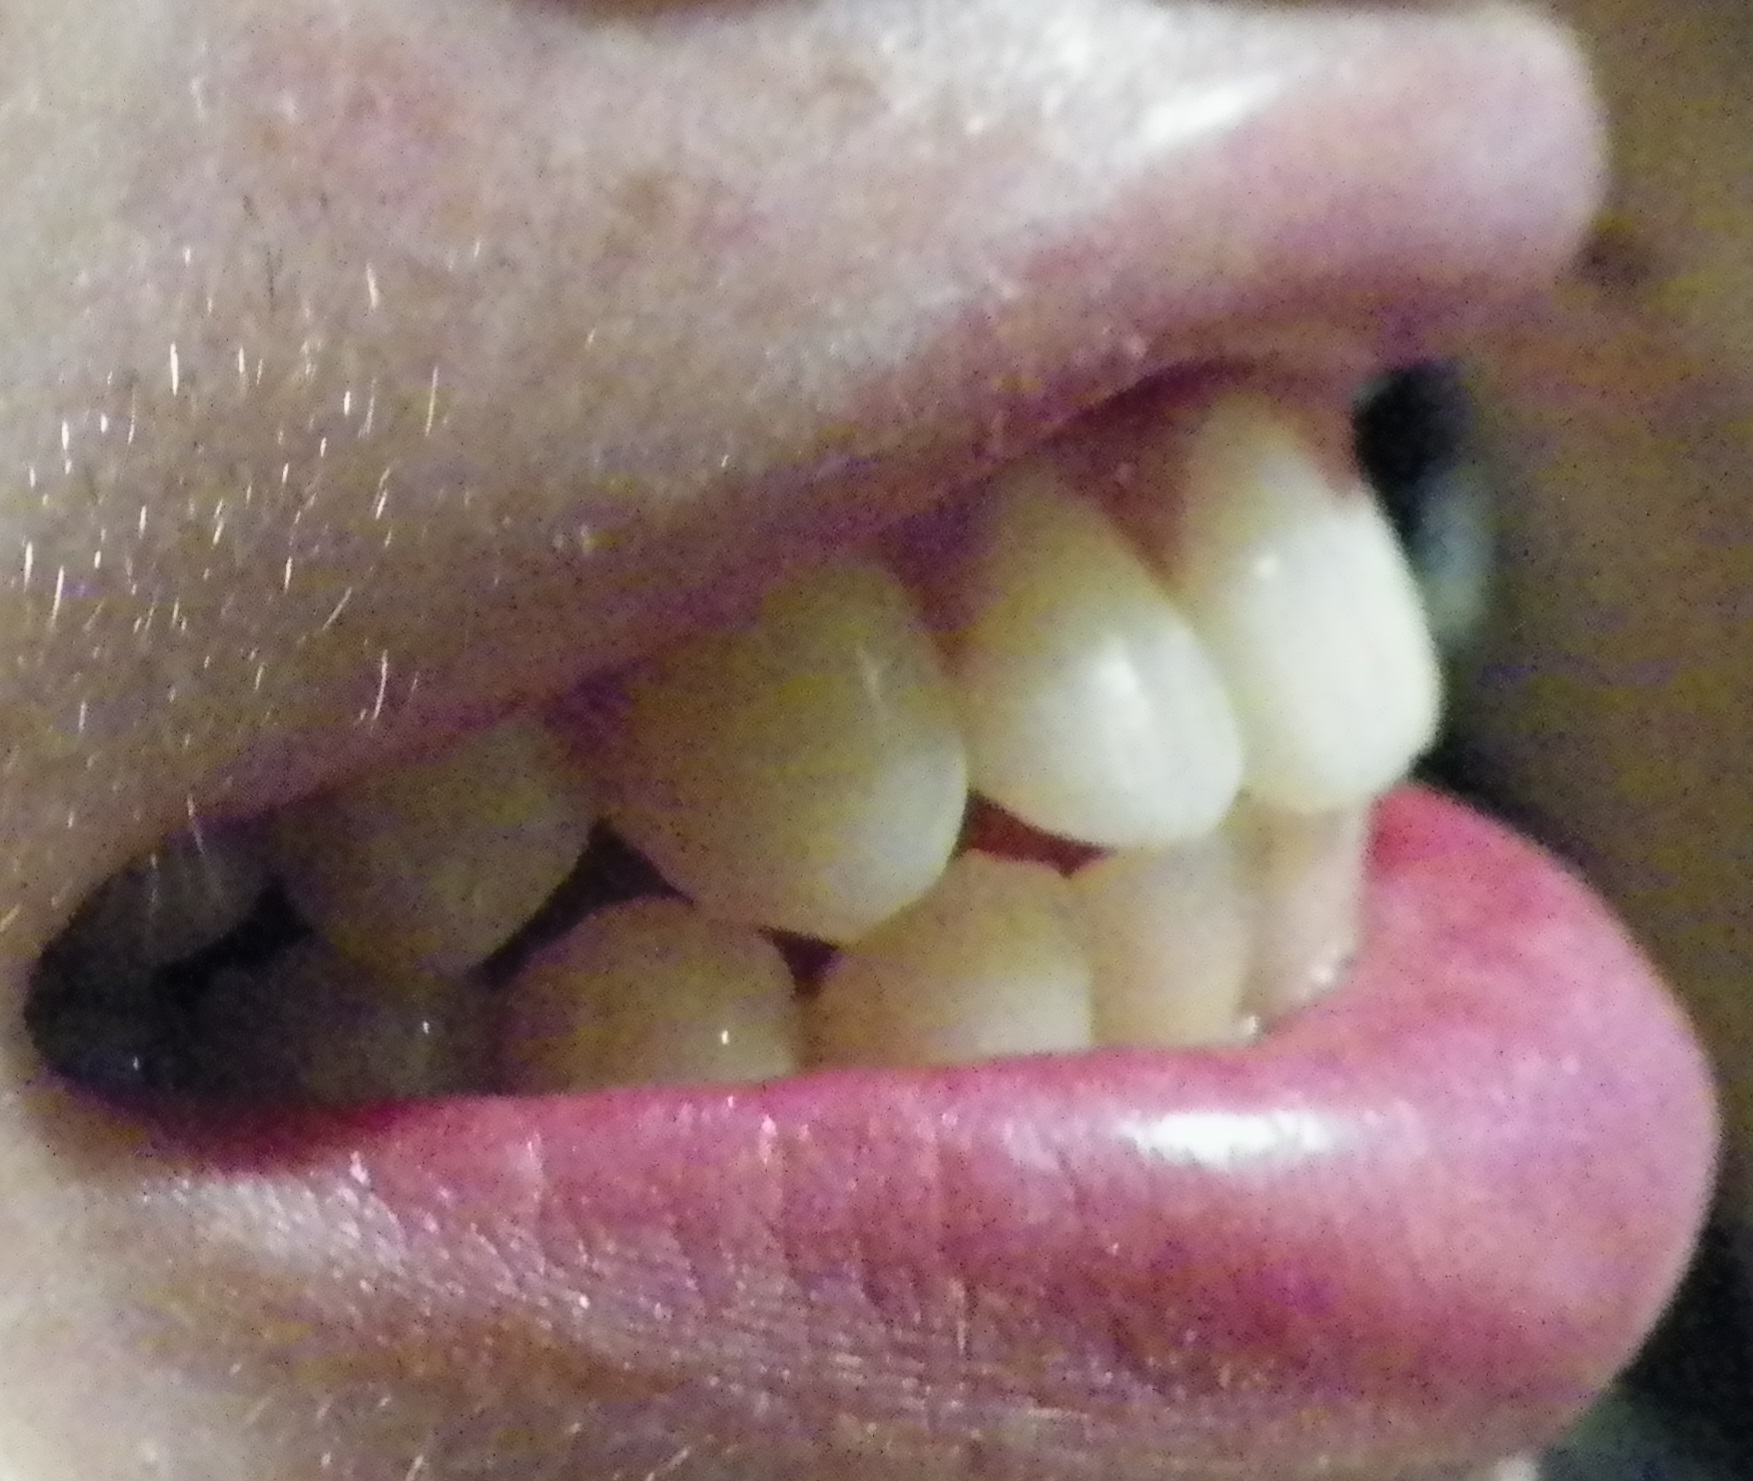boca: (60, 422, 1447, 1103)
